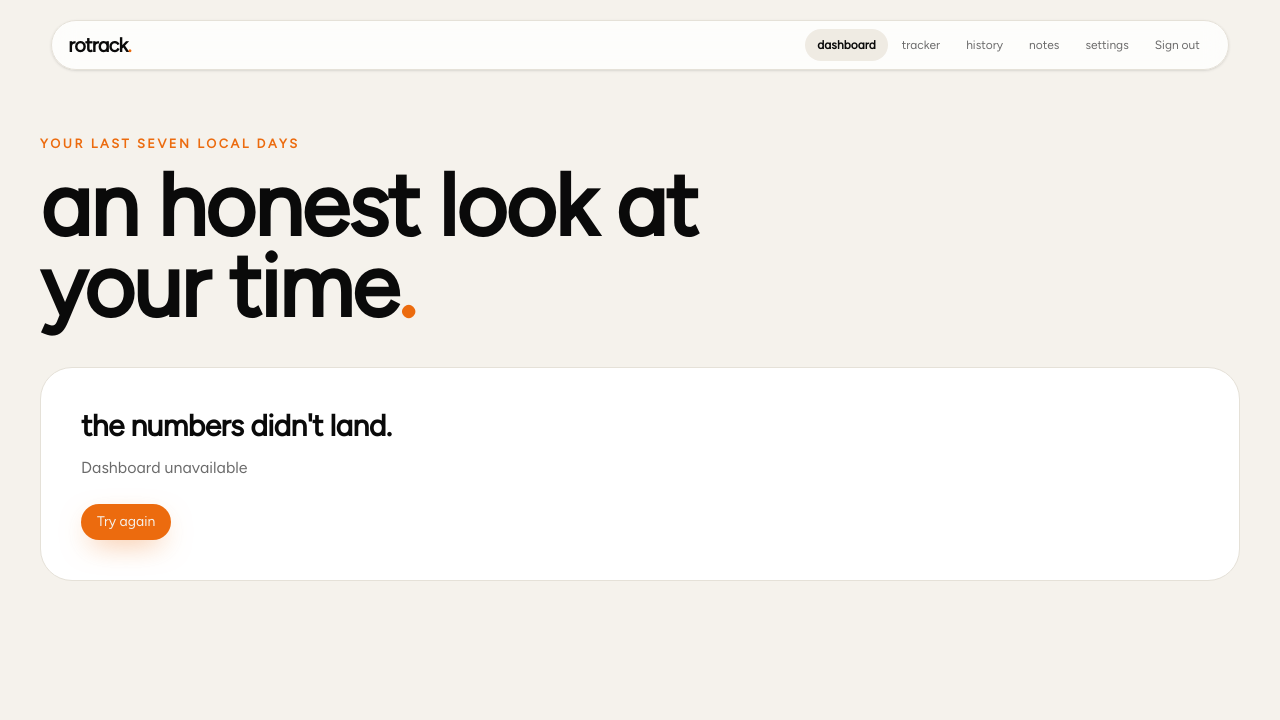
DashboardPage › lets the user retry a failed dashboard request
Expected: the message shows "Dashboard unavailable", [81, 458, 248, 477]
Click the button "Try again" at {"x": 126, "y": 522}, box [81, 504, 171, 540]
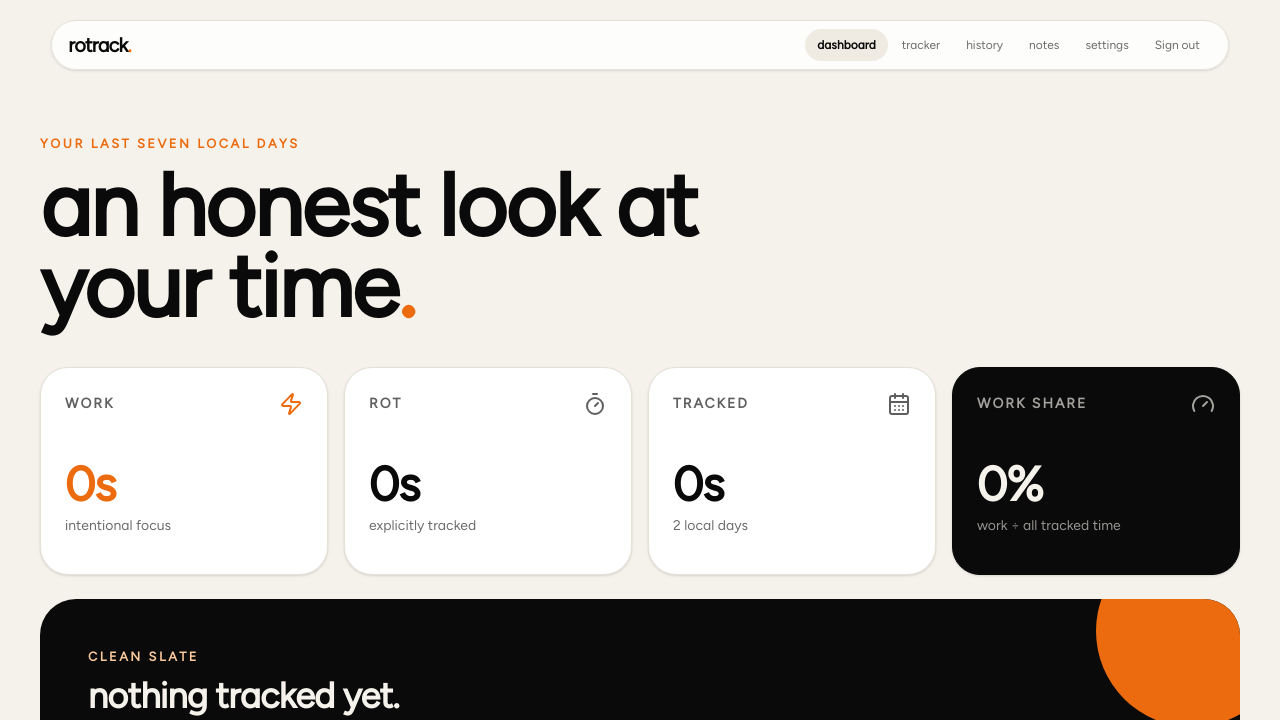
Result: the heading "nothing tracked yet." is shown at [88, 674, 399, 717]
